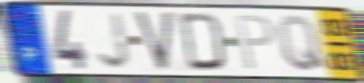4: (51, 8, 90, 73)
D: (177, 11, 228, 74)
J: (95, 11, 133, 71)
P: (234, 13, 277, 73)
Q: (275, 13, 331, 74)
V: (131, 10, 177, 74)
